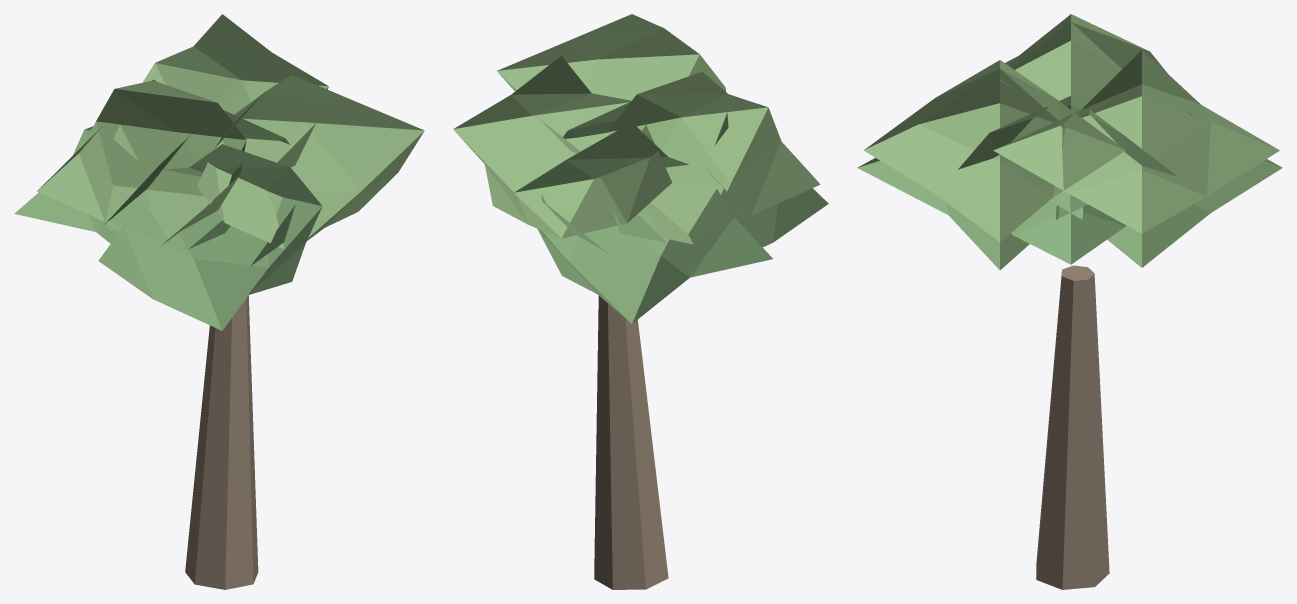
File: broadleaf_v08.glb
3 views of the same model, side by side, from view 1: azimuth 30°, elevation 25°; view 2: azimuth 150°, elevation 25°; view 3: azimuth 270°, elevation 25° (orthographic). The views are drawn at different scales.
Visible parts, largest first — view 1: lod0; view 2: lod0; view 3: lod0.
Boxes of the visible parts, x1,y1,x2,y2 form: lod0: [14, 14, 424, 589]; lod0: [453, 14, 828, 589]; lod0: [857, 14, 1282, 589].
Size of what is drawn, in the model's own units: 3.9 by 5.58 by 3.98.
